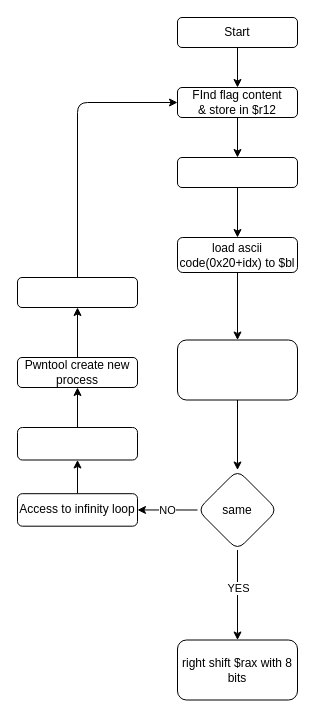
The diagram is 315 pixels wide and 718 high, and some of its shapes have lost their labels. The shapes that lost their labels are listed below. From the top down, each one's box as (x1, y1, x2, y2) in pixels, then its label:
(176, 156, 298, 188): Load 8 bytes to $rax
(16, 276, 138, 308): idx++
(176, 339, 298, 400): Compare $al and $bl
(16, 426, 138, 460): Pwntool kill the process
